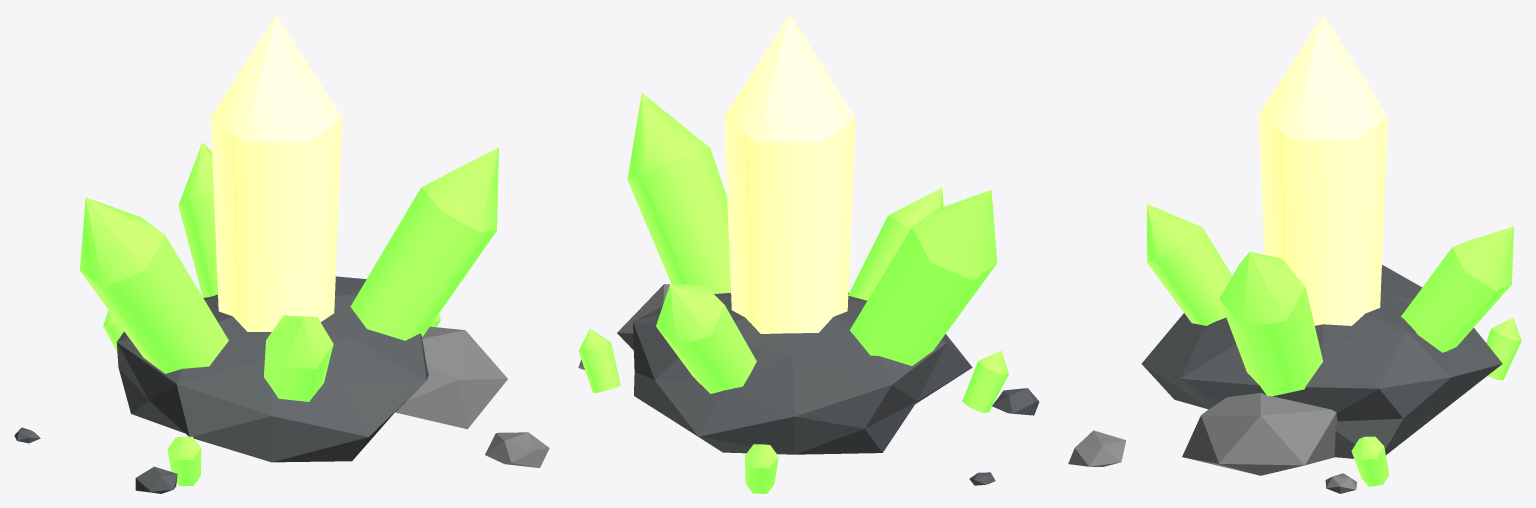
File: CrystalNature.glb
3 views of the same model, side by side, from view 1: azimuth 30°, elevation 25°; view 2: azimuth 150°, elevation 25°; view 3: azimuth 270°, elevation 25° (orthographic).
Parts seen in each view (by area): view 1: Glow, Body, GlowCore; view 2: Glow, GlowCore, Body; view 3: Body, GlowCore, Glow.
Part boxes in pixels (x1,y1,x2,y2): Glow: (80, 142, 498, 486); Body: (14, 276, 549, 493); GlowCore: (210, 14, 342, 331); Glow: (578, 93, 1008, 493); GlowCore: (724, 14, 855, 333); Body: (578, 284, 1039, 485); Body: (1068, 264, 1502, 493); GlowCore: (1258, 14, 1387, 325); Glow: (1147, 204, 1521, 486).
Bounding box in the file's own units: 4.7 × 4.16 × 4.35.
3 materials, 1 textured.
